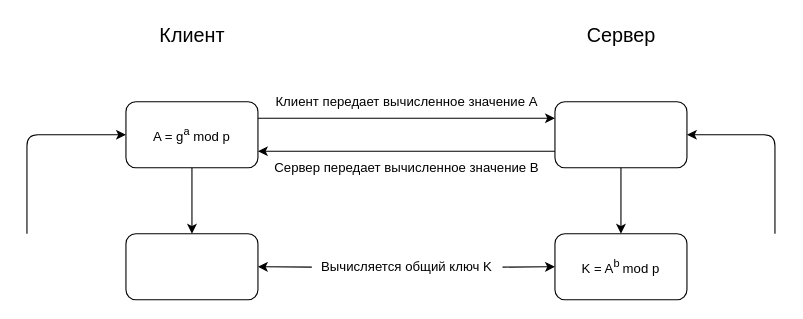
Some shapes in this 803 by 319 pixel diagram are drawn without their labels. Here are the shapes that lost their labels. From the top down, the centre of each, then its label:
(x=620, y=134): B = g b mod p
(x=191, y=266): K = B a mod p
